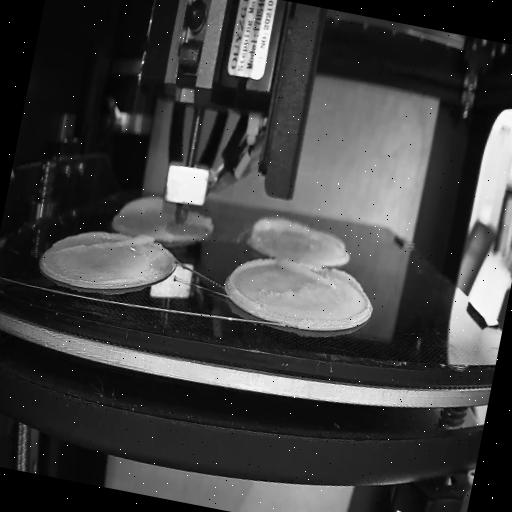over_extrusion: (56, 218, 158, 273), (273, 256, 366, 299), (224, 250, 275, 315), (118, 190, 176, 224), (249, 214, 311, 245), (318, 229, 346, 251), (188, 210, 216, 226)
